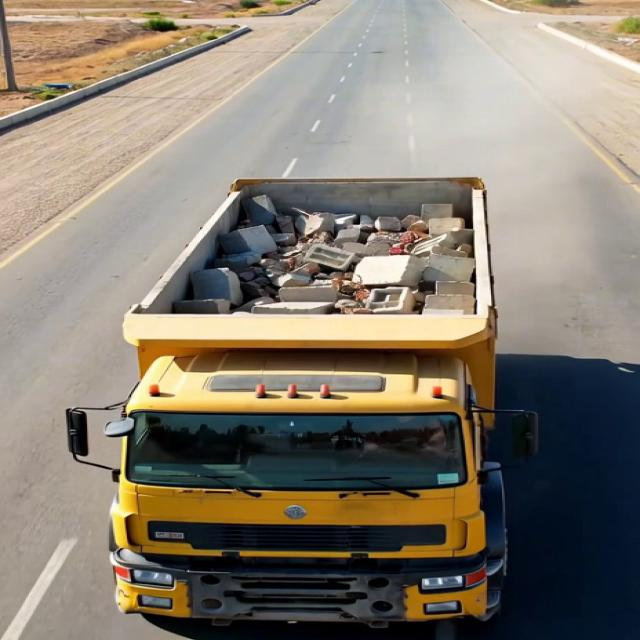Box: (125, 176, 524, 342)
Truck: (54, 127, 548, 623)
